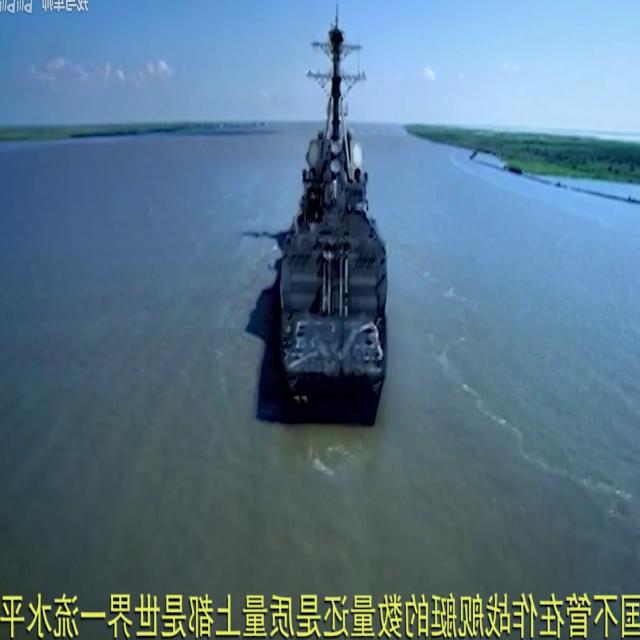navalvessels: (274, 0, 392, 403)
